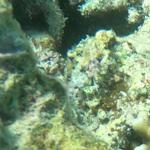dead: (9, 7, 144, 146)
